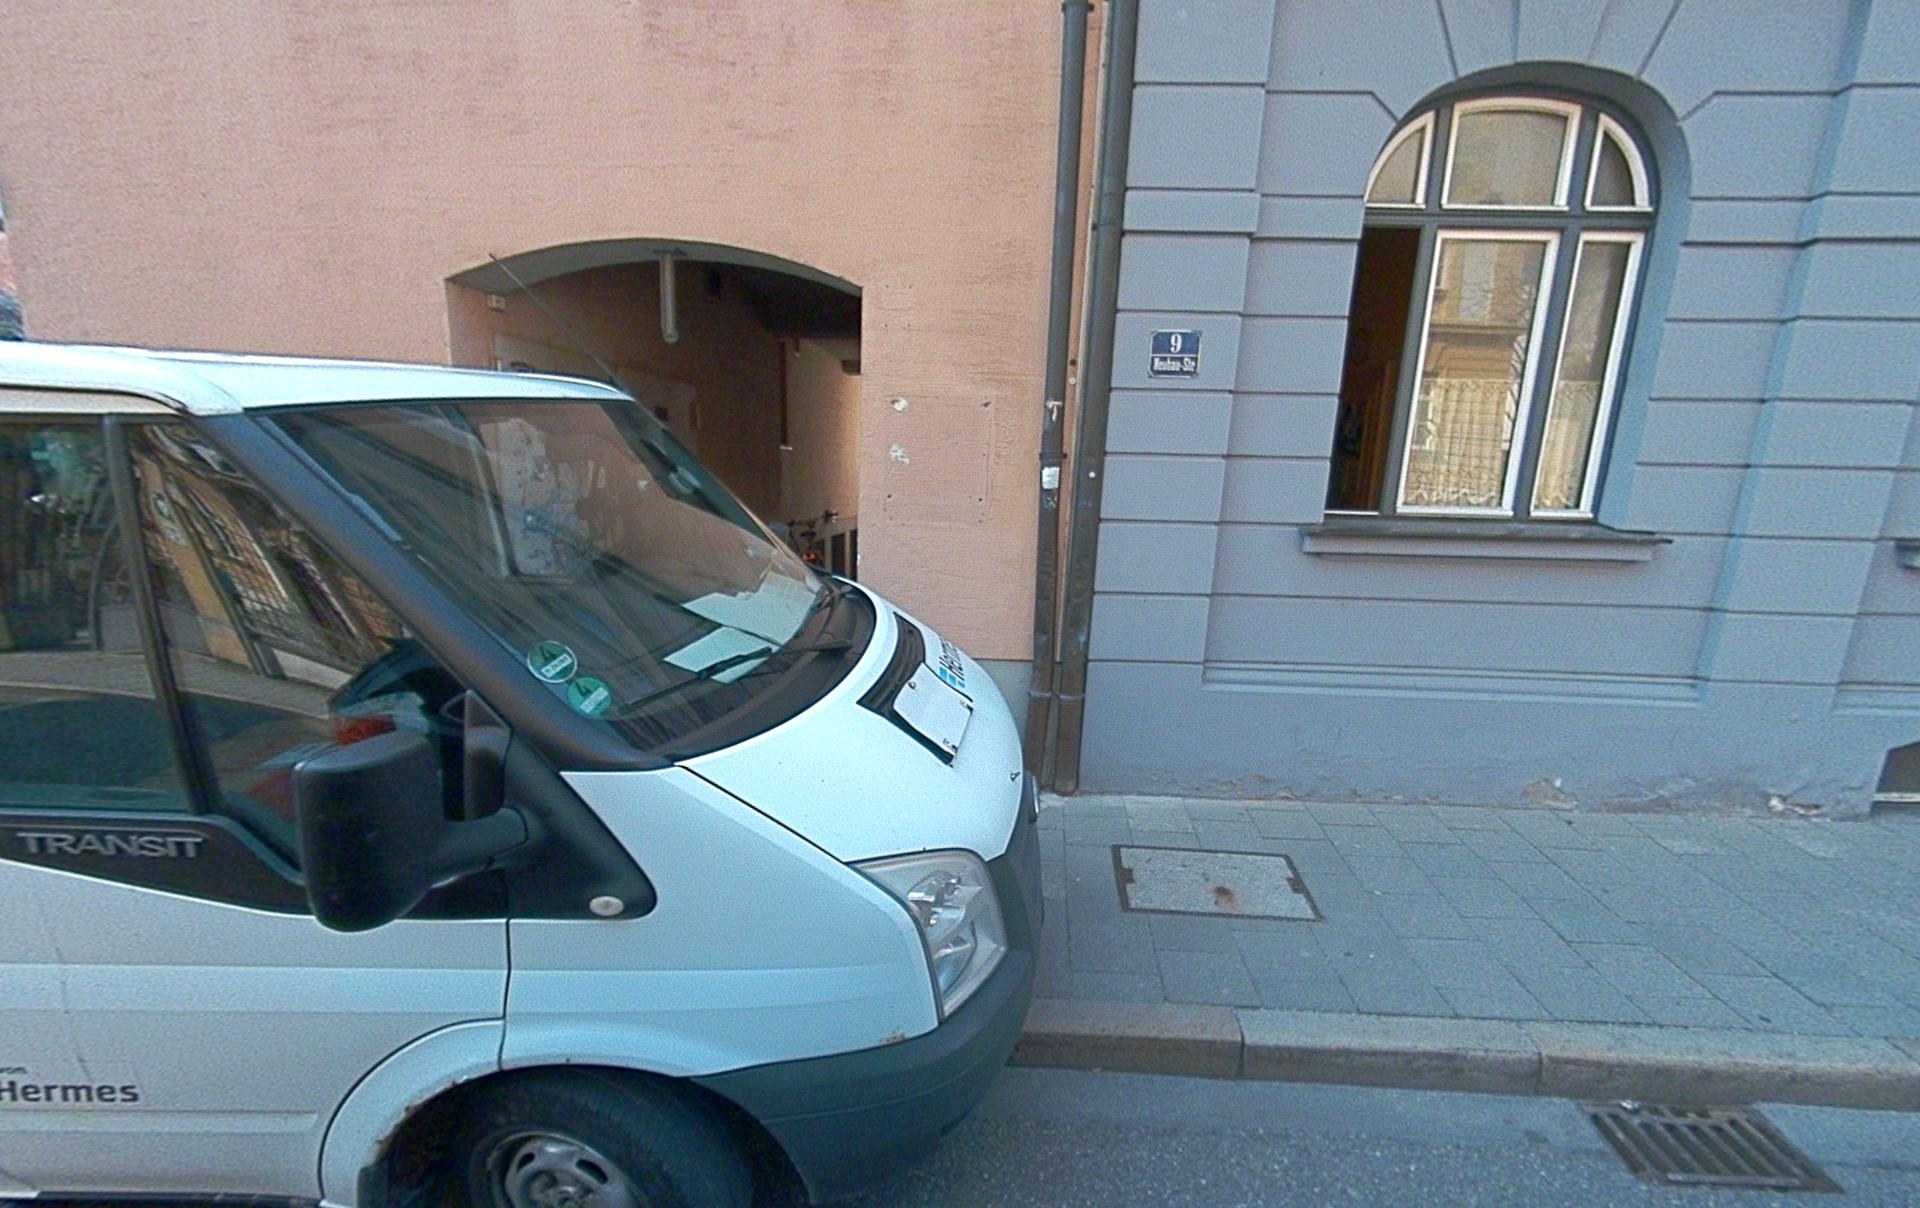car: (0, 337, 1046, 1207)
traffic sign: (1148, 328, 1201, 379)
